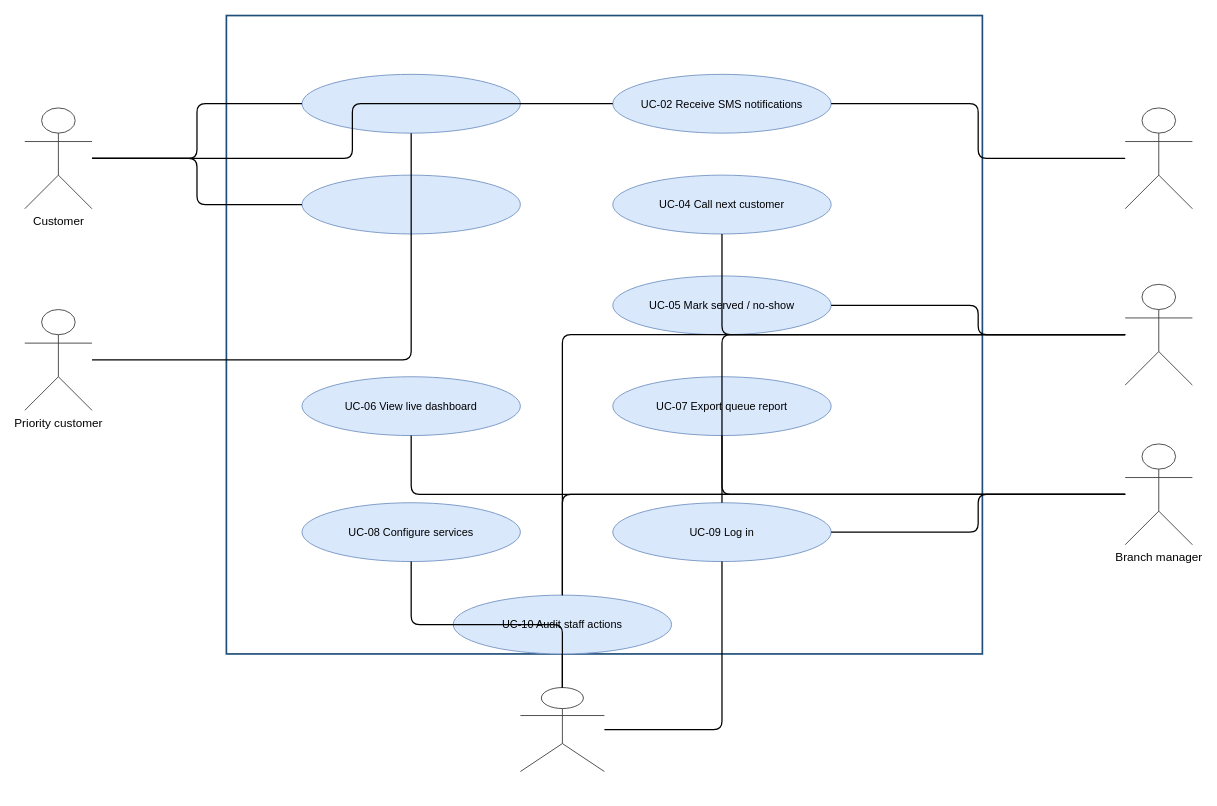
This 1217x806 diagram has some shape labels left out. Here are the shapes that lost their labels. From the top down, the box of each, then its label:
(301, 74, 520, 133): UC-01 Request queue ticket
(1124, 107, 1192, 209): SMS gateway
(301, 174, 520, 234): UC-03 Leave hall and return
(225, 14, 983, 654): SQMS — Smart Queue Management System
(1124, 284, 1192, 385): Teller
(520, 687, 604, 772): Administrator
